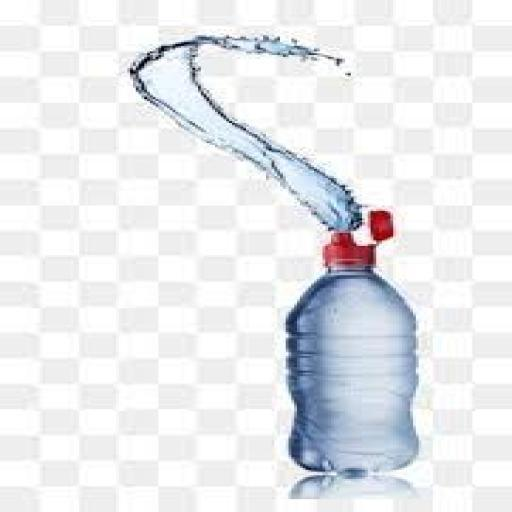bottle: (270, 210, 426, 468)
